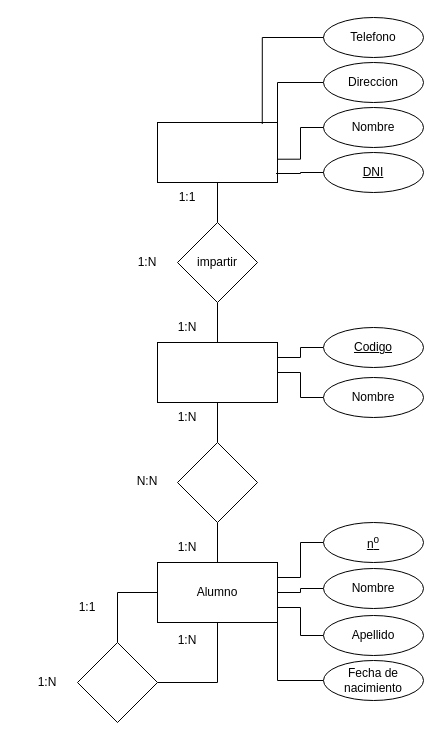
Image size: 441x740. Some labels were removed from this diagram. The shapes that lost their labels are listed below. From the top down, each one's centre as x and y in pixels, then its label:
At point 217,152: "Profesor".
At point 217,372: "Modulo".
At point 217,482: "matricularse".
At point 117,682: "es delegado".
